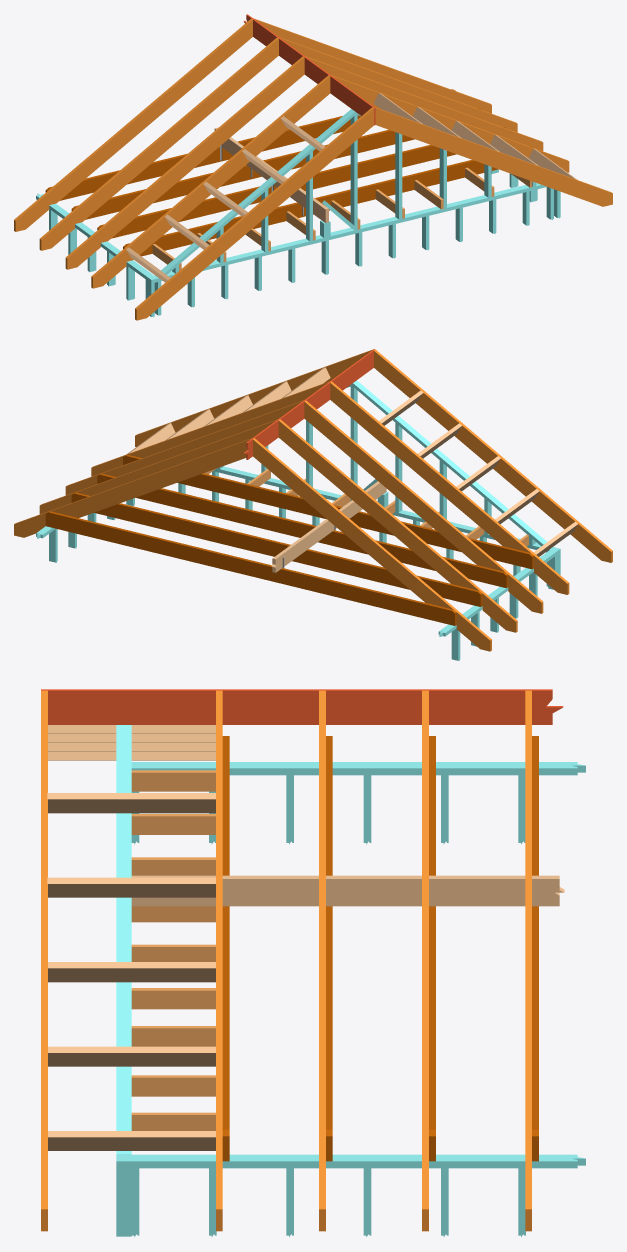
Rendered from Beam_3.dae.
3 renders of one model, top to bottom at view 1: azimuth 30°, elevation 25°; view 2: azimuth 150°, elevation 25°; view 3: azimuth 270°, elevation 25°, orthographic. The views are drawn at different scales.
Parts seen in each view (by area): view 1: Left_Rafter (×5), Right_Rafter (×5), Ceiling_Joist (×4), instance_28, OUTLOOKER1 (×5), Ridgeboard, instance_8, instance_58, instance_29, instance_10, instance_11, instance_18 (+1 smaller); view 2: Left_Rafter (×5), Ceiling_Joist (×4), Right_Rafter (×5), OUTLOOKER1 (×5), Ridgeboard, instance_8, instance_58, instance_28, instance_29, instance_10; view 3: OUTLOOKER1 (×9), Right_Rafter (×5), Ridgeboard, Ceiling_Joist (×4), instance_58, instance_30, instance_9, instance_29, instance_20, instance_26, instance_24, instance_19 (+6 smaller).
Part boxes in pixels (x1=…): Left_Rafter (×5): x1=14, y1=18, x2=373, y2=320; Right_Rafter (×5): x1=253, y1=18, x2=612, y2=206; Ceiling_Joist (×4): x1=45, y1=89, x2=533, y2=256; instance_28: x1=147, y1=183, x2=546, y2=283; OUTLOOKER1 (×5): x1=373, y1=93, x2=577, y2=179; Ridgeboard: x1=243, y1=14, x2=375, y2=125; instance_8: x1=161, y1=109, x2=355, y2=274; instance_58: x1=214, y1=127, x2=328, y2=222; instance_29: x1=36, y1=193, x2=153, y2=280; instance_10: x1=350, y1=114, x2=357, y2=230; instance_11: x1=395, y1=132, x2=402, y2=219; instance_18: x1=306, y1=151, x2=312, y2=241; Left_Rafter (×5): x1=253, y1=349, x2=612, y2=651; Ceiling_Joist (×4): x1=45, y1=454, x2=533, y2=625; Right_Rafter (×5): x1=14, y1=349, x2=373, y2=537; OUTLOOKER1 (×5): x1=126, y1=367, x2=330, y2=454; Ridgeboard: x1=244, y1=349, x2=375, y2=459; instance_8: x1=352, y1=380, x2=546, y2=546; instance_58: x1=271, y1=481, x2=386, y2=572; instance_28: x1=213, y1=466, x2=560, y2=554; instance_29: x1=438, y1=550, x2=556, y2=636; instance_10: x1=350, y1=386, x2=357, y2=500; OUTLOOKER1 (×9): x1=47, y1=725, x2=215, y2=1150; Right_Rafter (×5): x1=41, y1=690, x2=531, y2=1231; Ridgeboard: x1=41, y1=689, x2=563, y2=724; Ceiling_Joist (×4): x1=222, y1=736, x2=538, y2=1161; instance_58: x1=131, y1=875, x2=564, y2=906; instance_30: x1=131, y1=1154, x2=585, y2=1168; instance_9: x1=116, y1=725, x2=131, y2=1153; instance_29: x1=131, y1=762, x2=585, y2=775; instance_20: x1=131, y1=770, x2=215, y2=791; instance_26: x1=131, y1=1075, x2=215, y2=1096; instance_24: x1=131, y1=988, x2=215, y2=1009; instance_19: x1=131, y1=814, x2=215, y2=834.
Bounding box in the file's own units: 252 × 125 × 87.93.
